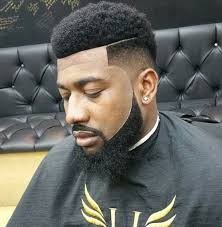black_male: (36, 24, 169, 167)
